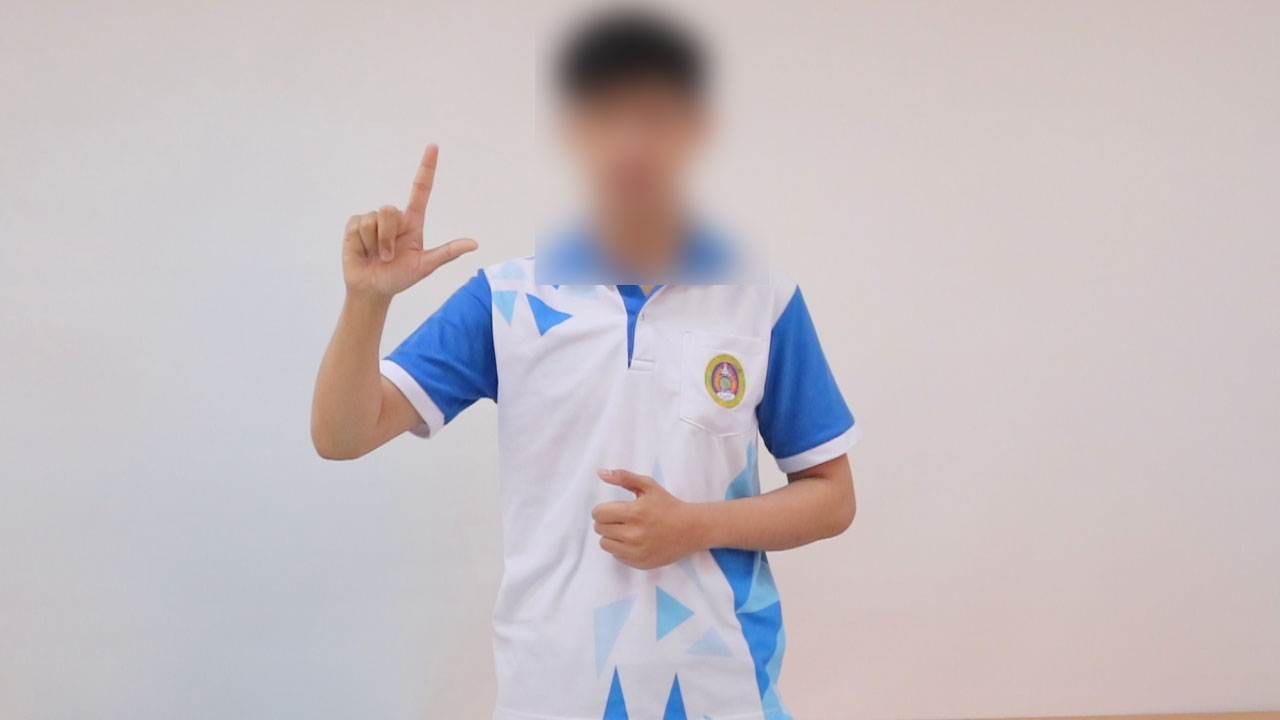lor: (316, 122, 500, 316)
